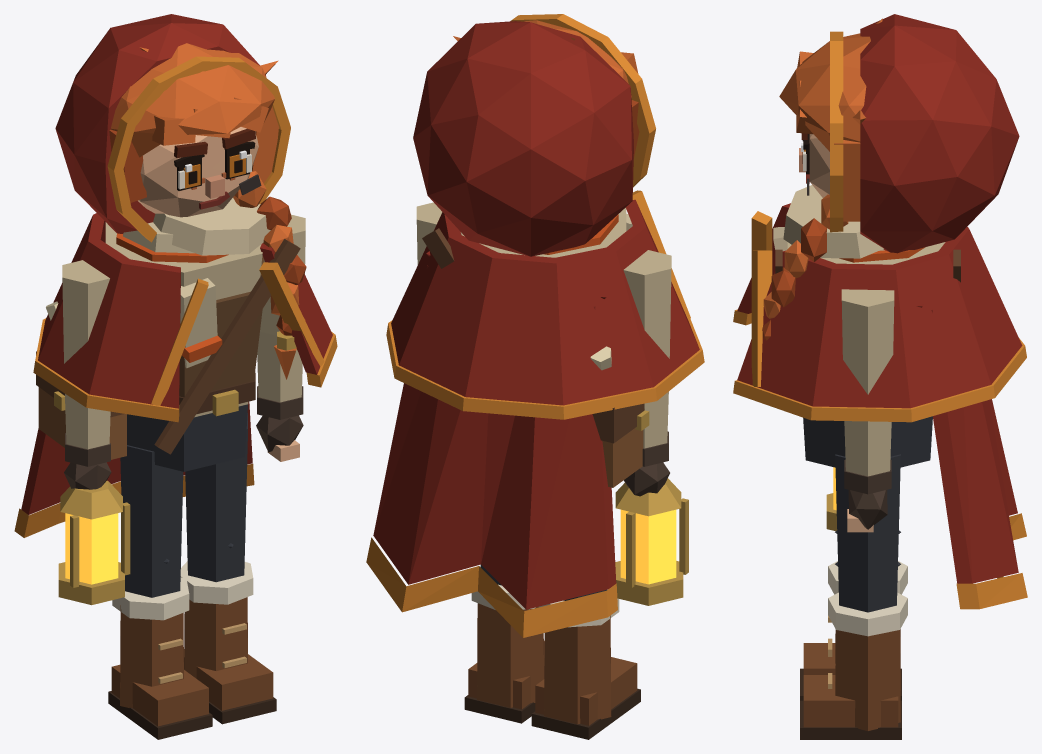
Rendered from wren-hood-up.glb.
3 renders of one model, left to right at view 1: azimuth 30°, elevation 25°; view 2: azimuth 150°, elevation 25°; view 3: azimuth 270°, elevation 25°, orthographic. The views are drawn at different scales.
Parts seen in each view (by area): view 1: cloak, torso, hood_up, head, knee_R, knee_L, lantern, leg_R, leg_L, hips, elbow_L, elbow_R (+4 smaller); view 2: cloak, hood_up, knee_R, lantern, knee_L, satchel, arm_R, elbow_R, torso, head, arm_L; view 3: cloak, hood_up, knee_L, head, torso, elbow_L, leg_L, arm_L, hips, knee_R, lantern.
Boxes of the visible parts, x1,y1,x2,y2 form: cloak: (14, 213, 337, 537); torso: (105, 171, 306, 454); hood_up: (55, 14, 290, 242); head: (109, 43, 278, 217); knee_R: (108, 558, 212, 739); knee_L: (180, 542, 276, 724); lantern: (58, 480, 130, 605); leg_R: (120, 445, 183, 564); leg_L: (185, 413, 247, 548); hips: (127, 404, 247, 471); elbow_L: (256, 331, 303, 461); elbow_R: (64, 394, 111, 489); cloak: (366, 190, 704, 637); hood_up: (413, 14, 655, 256); knee_R: (531, 589, 640, 739); lantern: (615, 478, 688, 605); knee_L: (464, 565, 544, 723); satchel: (590, 346, 649, 487); arm_R: (623, 250, 671, 358); elbow_R: (624, 391, 669, 496); torso: (422, 208, 632, 268); head: (453, 20, 639, 158); arm_L: (416, 202, 461, 264); cloak: (733, 203, 1027, 609); hood_up: (830, 14, 1019, 253); knee_L: (800, 562, 907, 739); head: (779, 18, 882, 221); torso: (762, 185, 960, 340); elbow_L: (844, 421, 891, 532); leg_L: (835, 454, 900, 578); arm_L: (841, 289, 894, 394); hips: (803, 416, 932, 467); knee_R: (800, 530, 907, 700); lantern: (826, 467, 837, 531).
Bounding box in the file's own units: 0.8075 × 1.99 × 0.7782.
